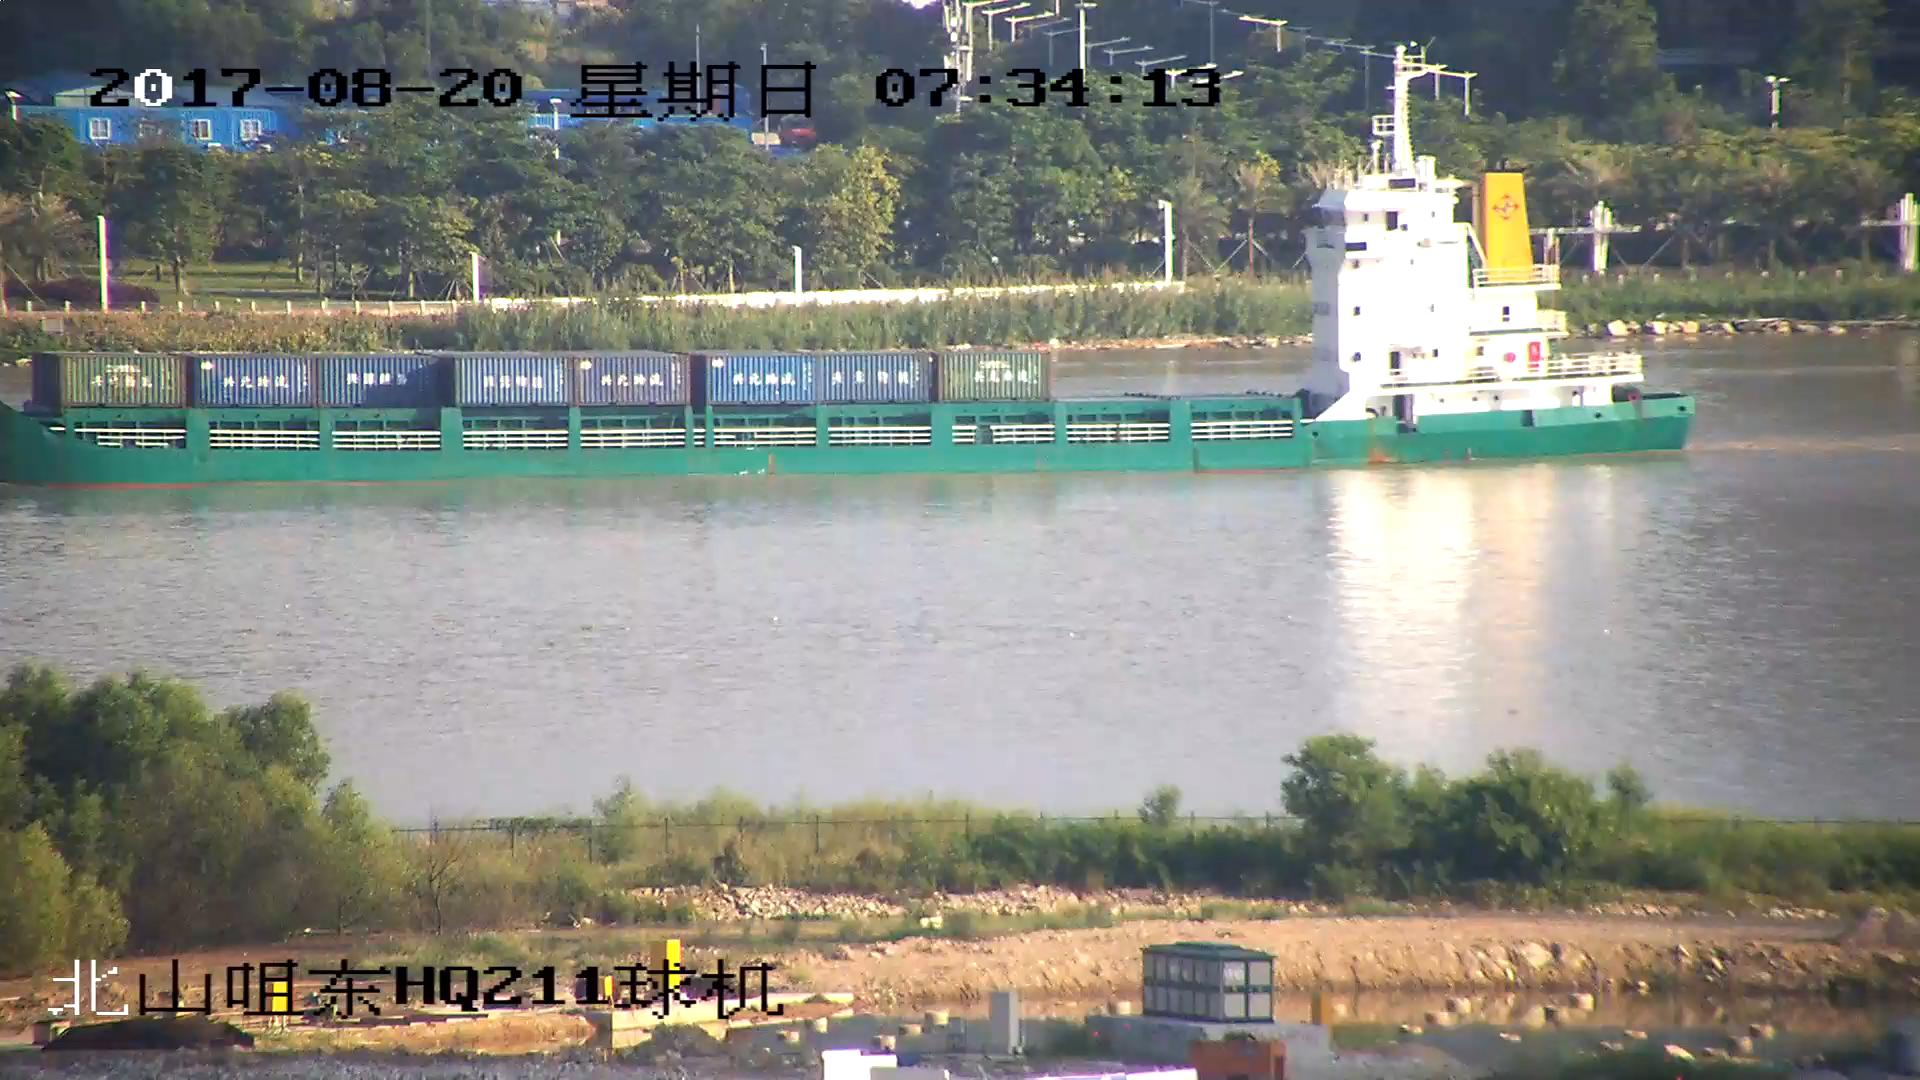general cargo ship: (1, 117, 1696, 489)
